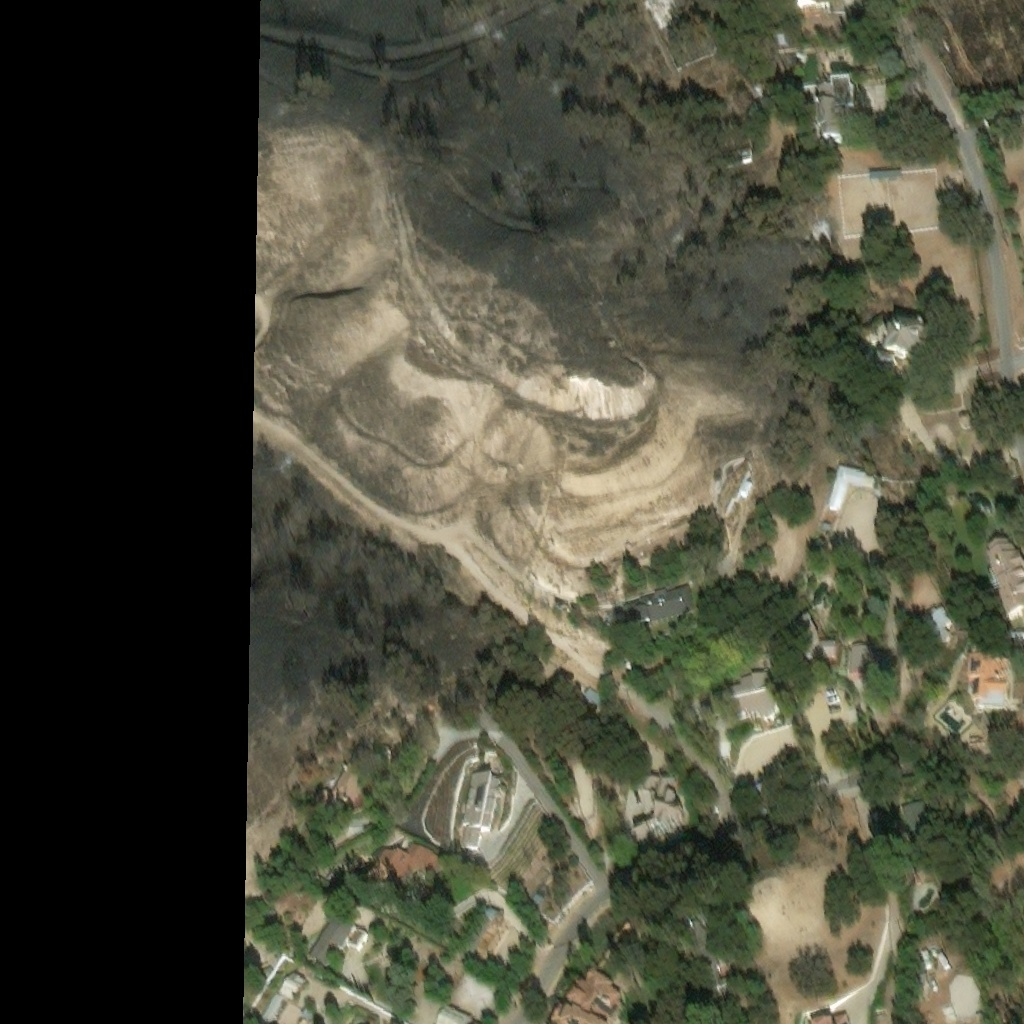0 no-damage: (310, 733, 400, 824), (615, 580, 697, 638), (369, 841, 443, 903), (549, 966, 624, 1023), (678, 924, 733, 1000), (459, 770, 507, 851), (628, 768, 684, 837), (308, 913, 368, 972), (728, 761, 792, 813), (985, 533, 1023, 617), (728, 668, 785, 724), (816, 71, 856, 144), (784, 609, 839, 660), (260, 970, 309, 1023), (879, 313, 934, 360), (964, 649, 1008, 705), (825, 460, 877, 507), (899, 796, 938, 852), (917, 601, 954, 640), (846, 639, 875, 671), (973, 343, 993, 381), (985, 341, 1003, 378), (436, 1006, 475, 1023), (867, 161, 904, 177), (413, 958, 434, 986), (649, 0, 677, 17), (809, 1011, 848, 1023), (874, 350, 895, 370), (481, 906, 503, 925), (793, 0, 827, 11), (783, 45, 807, 58), (1009, 621, 1023, 636), (530, 890, 545, 904), (299, 1012, 317, 1023), (874, 1005, 885, 1023), (775, 31, 787, 46)
